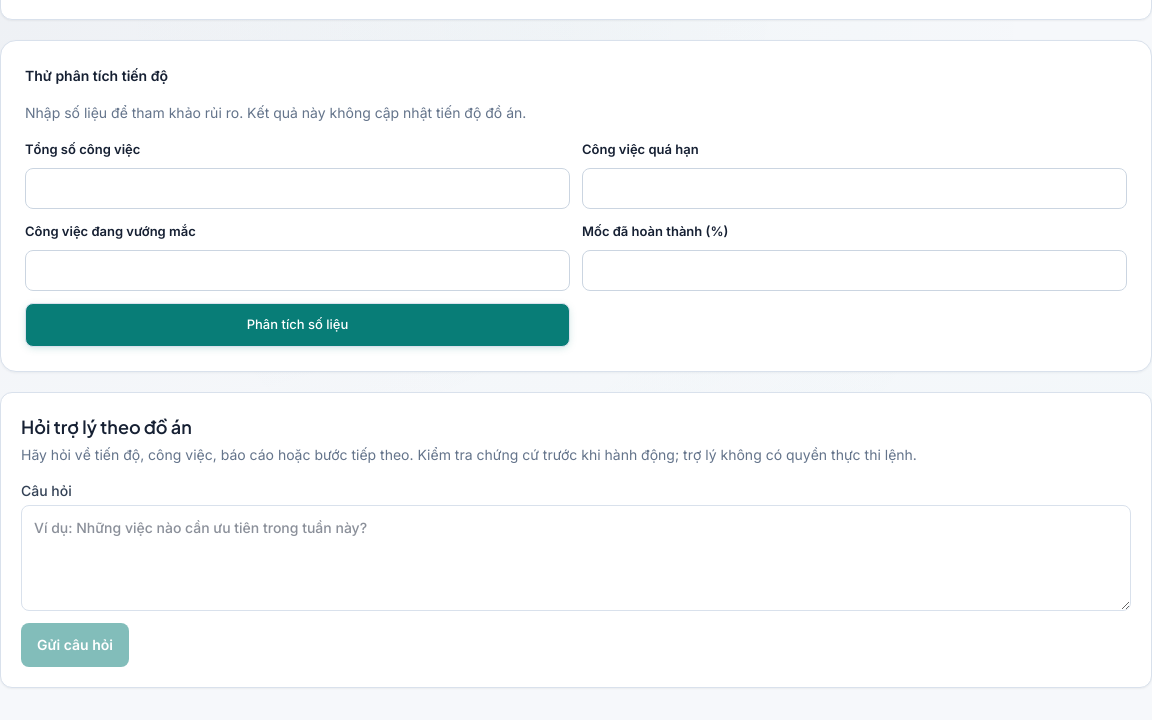
AI advisory components › clearly labels a project assistant fallback without inventing an insufficient-evidence state
This screenshot has width=1152, height=720.
(page scrolled)
Type "Tóm tắt giúp tôi" into the text box labelled "Câu hỏi" at (576, 558), box [21,505,1131,611]
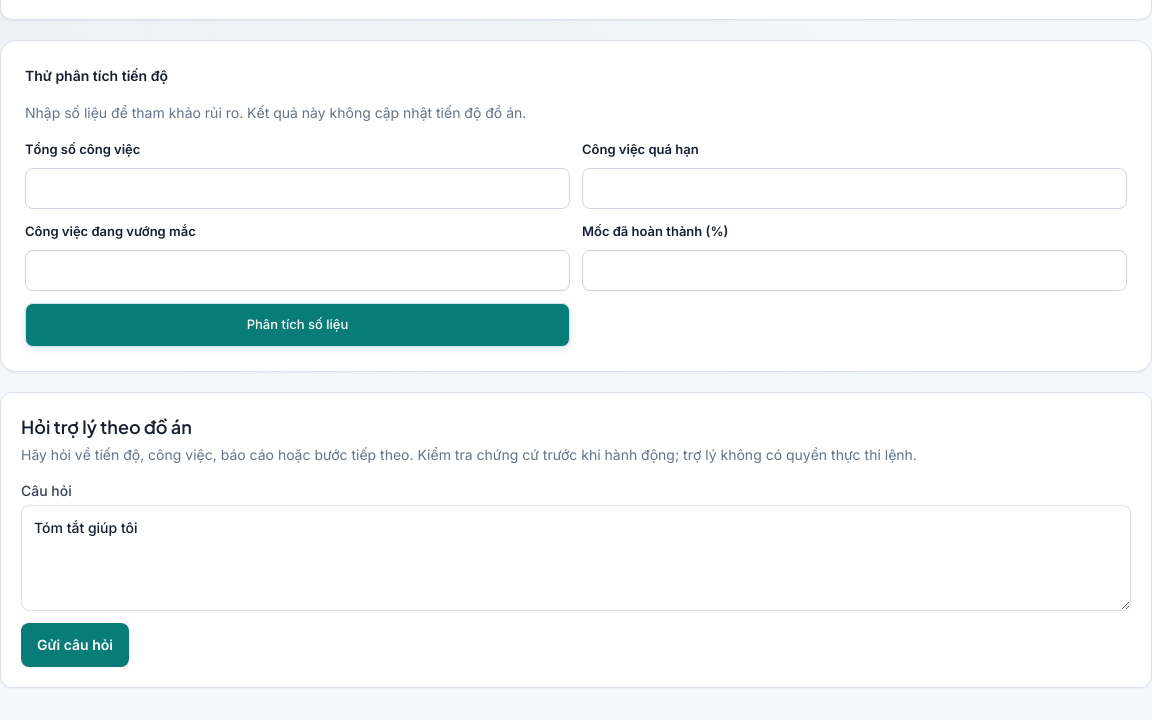
Click the button "Gửi câu hỏi" at (75, 645), box [21,623,129,667]
(page scrolled)
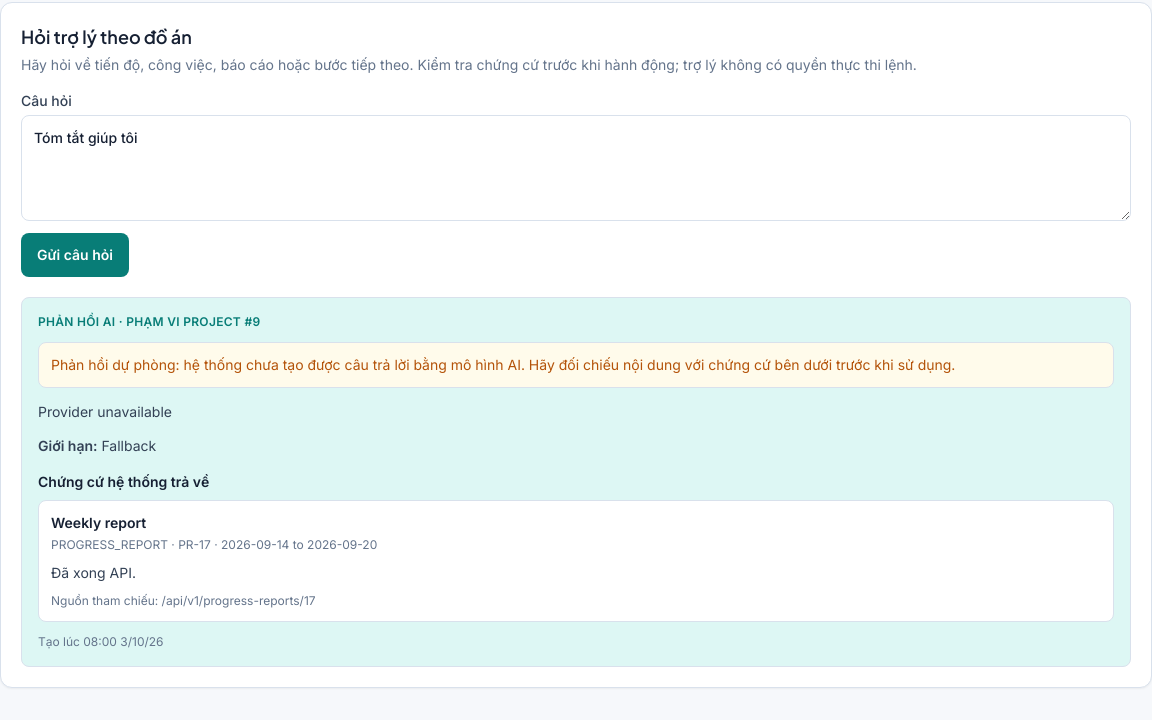
Now the text "Phản hồi dự phòng: hệ thống chưa tạo được câu trả lời" is shown, box [51,356,955,373]
Now the text "Weekly report" is shown, box [51,514,146,531]
